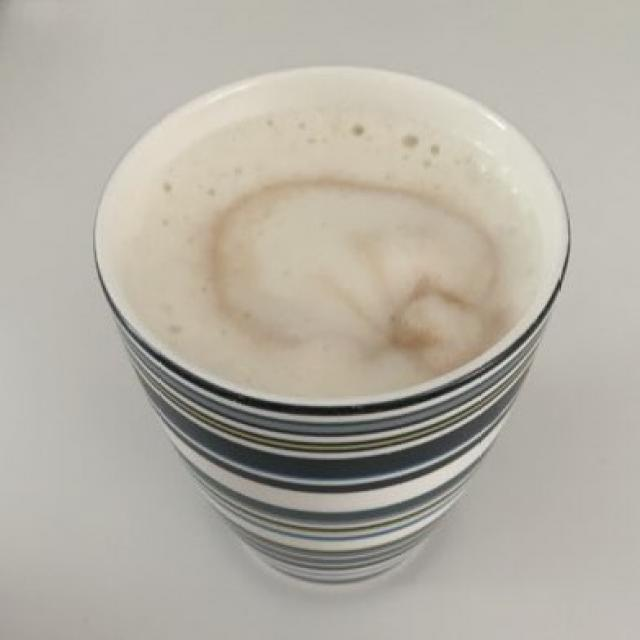cappuccino: (110, 101, 540, 395)
